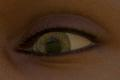eye: (37, 33, 71, 54)
